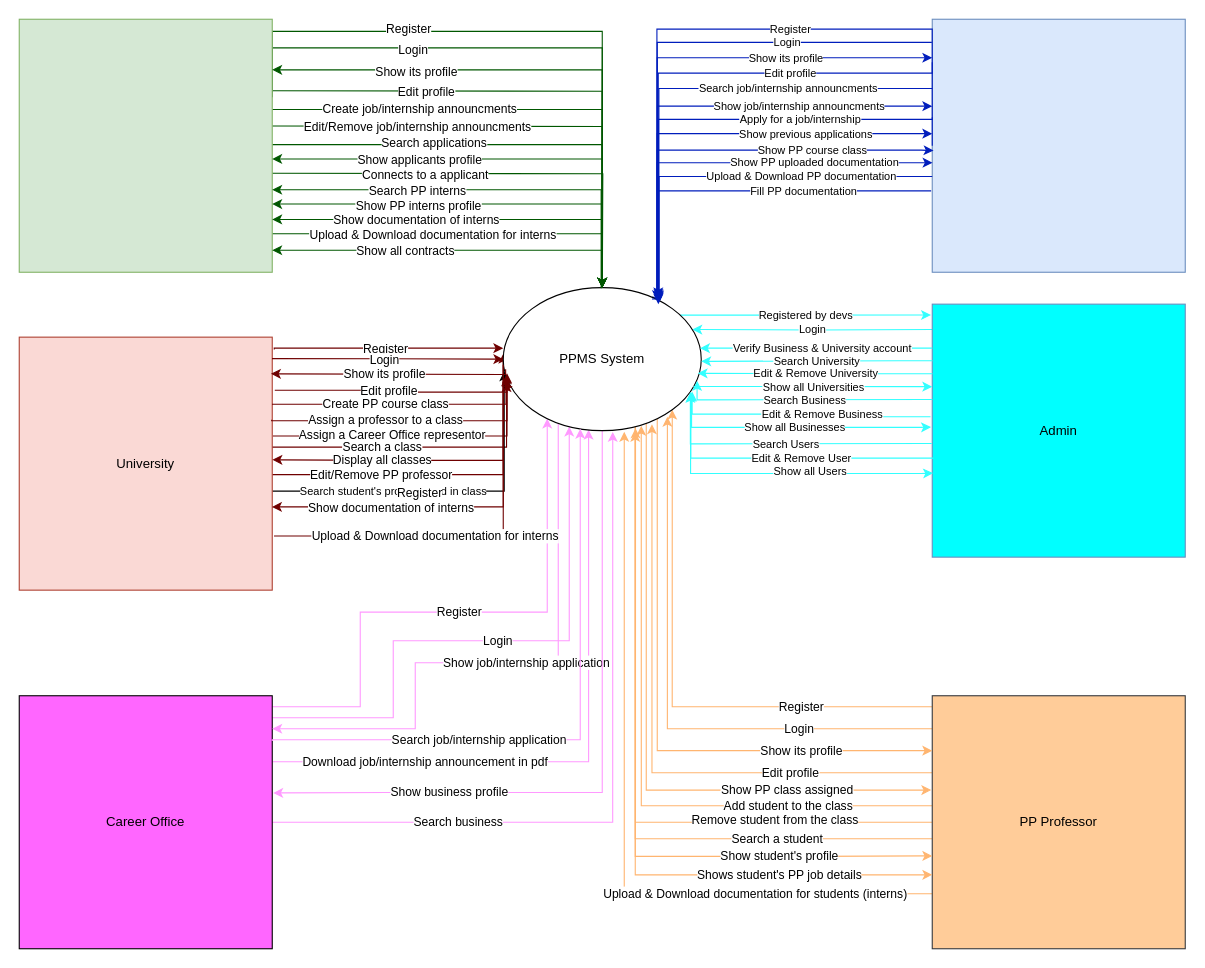
The diagram is 1205 pixels wide and 968 high, and some of its shapes have lost their labels. The shapes that lost their labels are listed below. From the top down, each one's box as (x1, y1, x2, y2) in pixels, then its label:
(18, 18, 272, 272): Business
(931, 18, 1185, 272): General User
